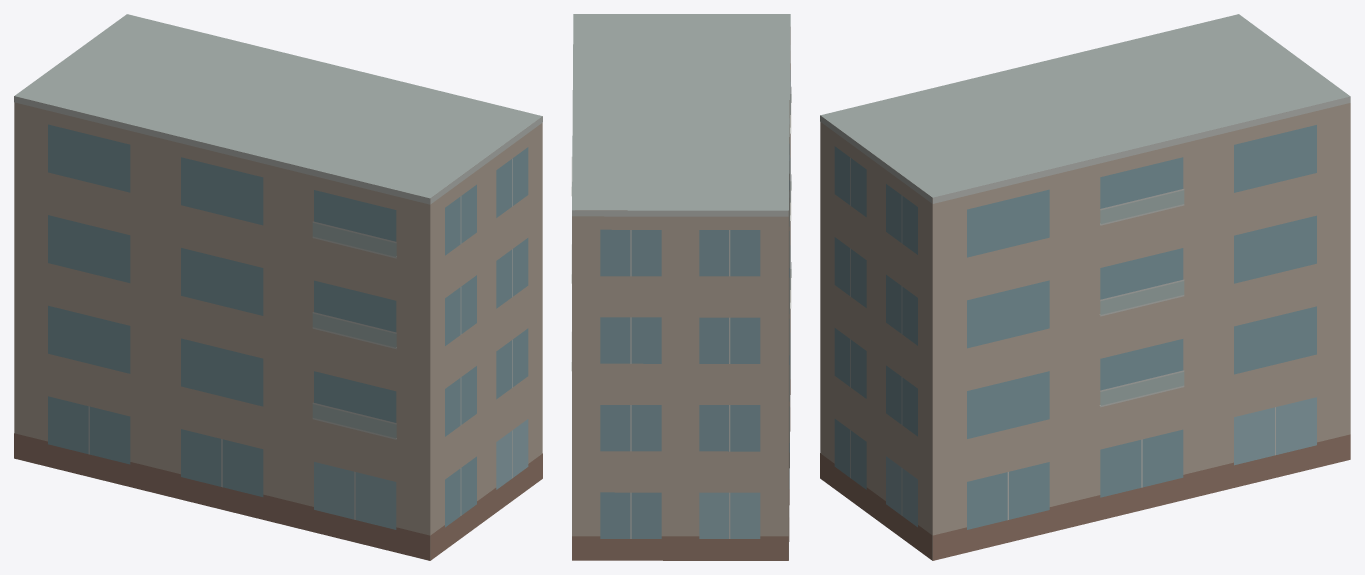
The model's file is survey-upis-32604934.glb.
3 renders of one model, left to right at view 1: azimuth 30°, elevation 25°; view 2: azimuth 150°, elevation 25°; view 3: azimuth 270°, elevation 25°, orthographic. The views are drawn at different scales.
Visible parts, largest first — view 1: survey-upis-32604934.tmp; view 2: survey-upis-32604934.tmp; view 3: survey-upis-32604934.tmp.
Boxes of the visible parts, x1,y1,x2,y2 form: survey-upis-32604934.tmp: [14, 14, 542, 560]; survey-upis-32604934.tmp: [571, 14, 791, 560]; survey-upis-32604934.tmp: [820, 14, 1350, 560].
Size of the model in its own units: 15.31 by 14.1 by 18.68.
